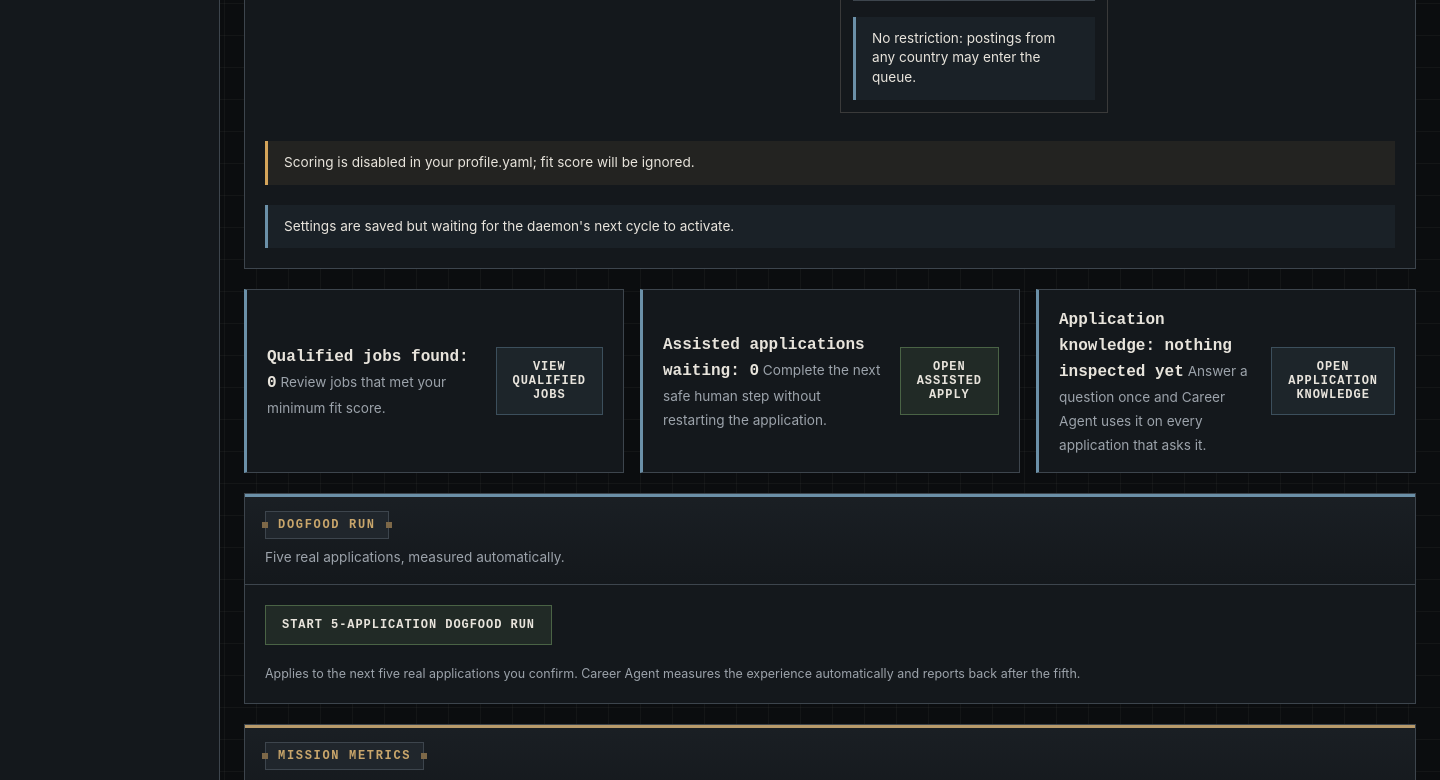
Test: Application Knowledge › shows one deduplicated question with how many applications wait on it
(page scrolled)
Click the button "Open Application Knowledge": (1333, 381) [1271,347,1395,415]
(page scrolled)
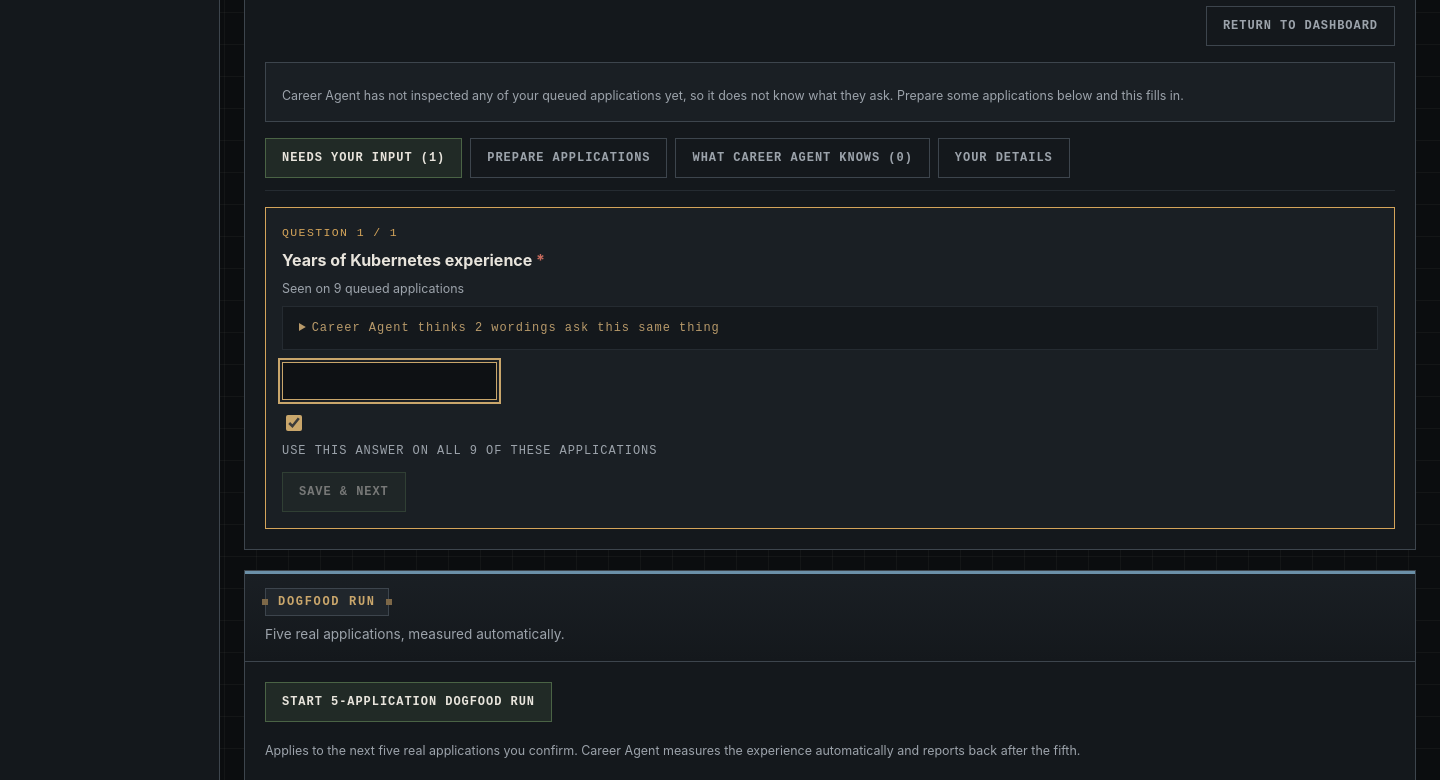
Check: the text "Question 1 / 1" is shown, box [282,226,398,239]
Check: the heading "Years of Kubernetes experience *" is shown, box [282,250,545,270]
Check: the text "Seen on 9 queued applications" is shown, box [282,281,464,296]
